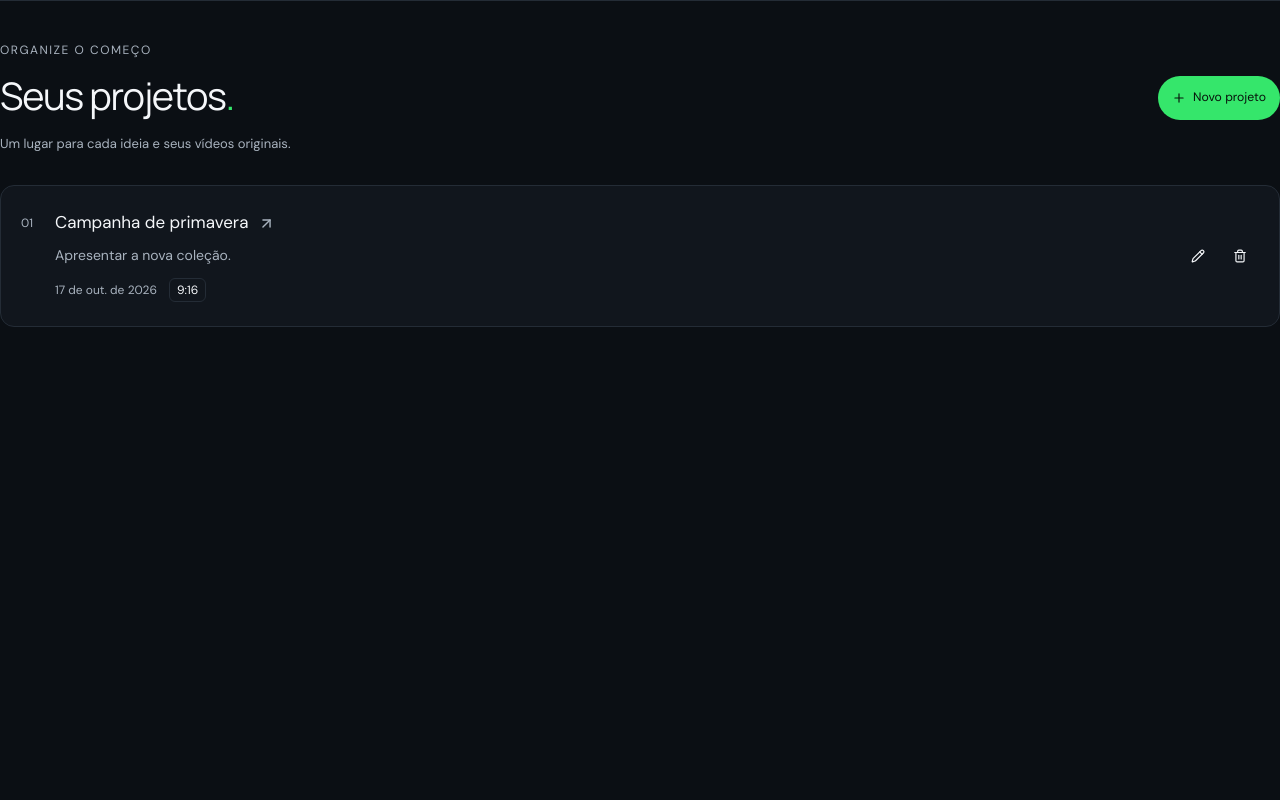
Test: Project management › updates name, purpose and optional preset and refreshes the list
Click the button named "Editar Campanha de primavera": (1198, 256) x1=1179 y1=234 x2=1218 y2=278
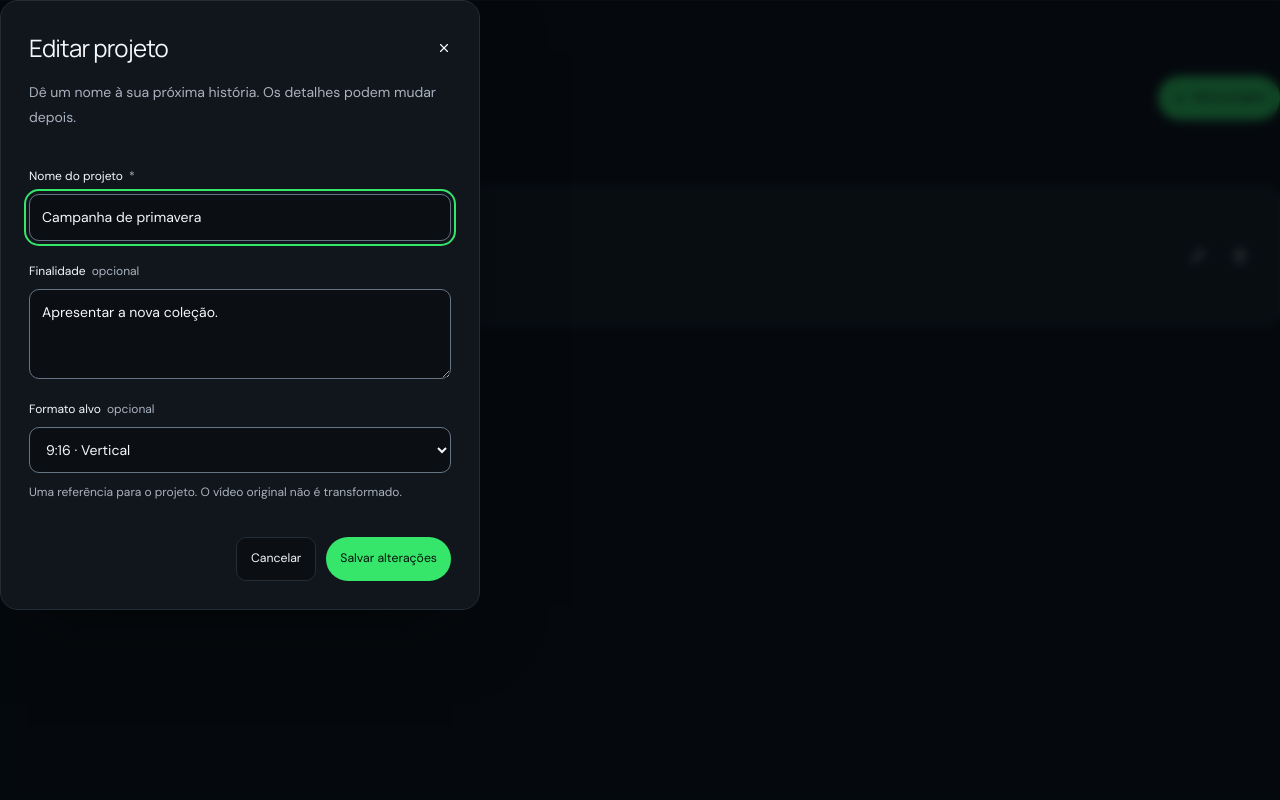
Replace the text in the field labelled "Nome do projeto *" with "Novo nome": (240, 218) x1=29 y1=194 x2=451 y2=241
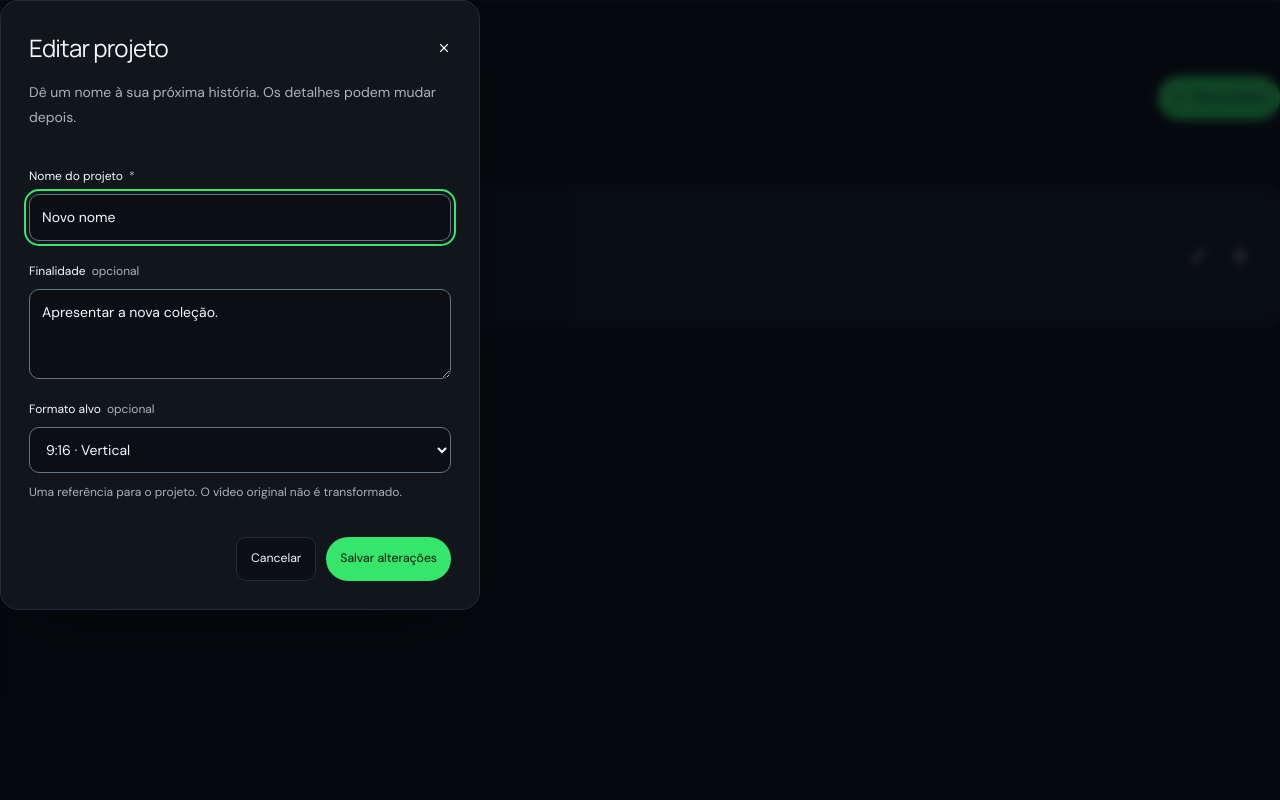
Replace the text in the text box labelled "Finalidade opcional" with "Novo propósito": (240, 334) x1=29 y1=289 x2=451 y2=379
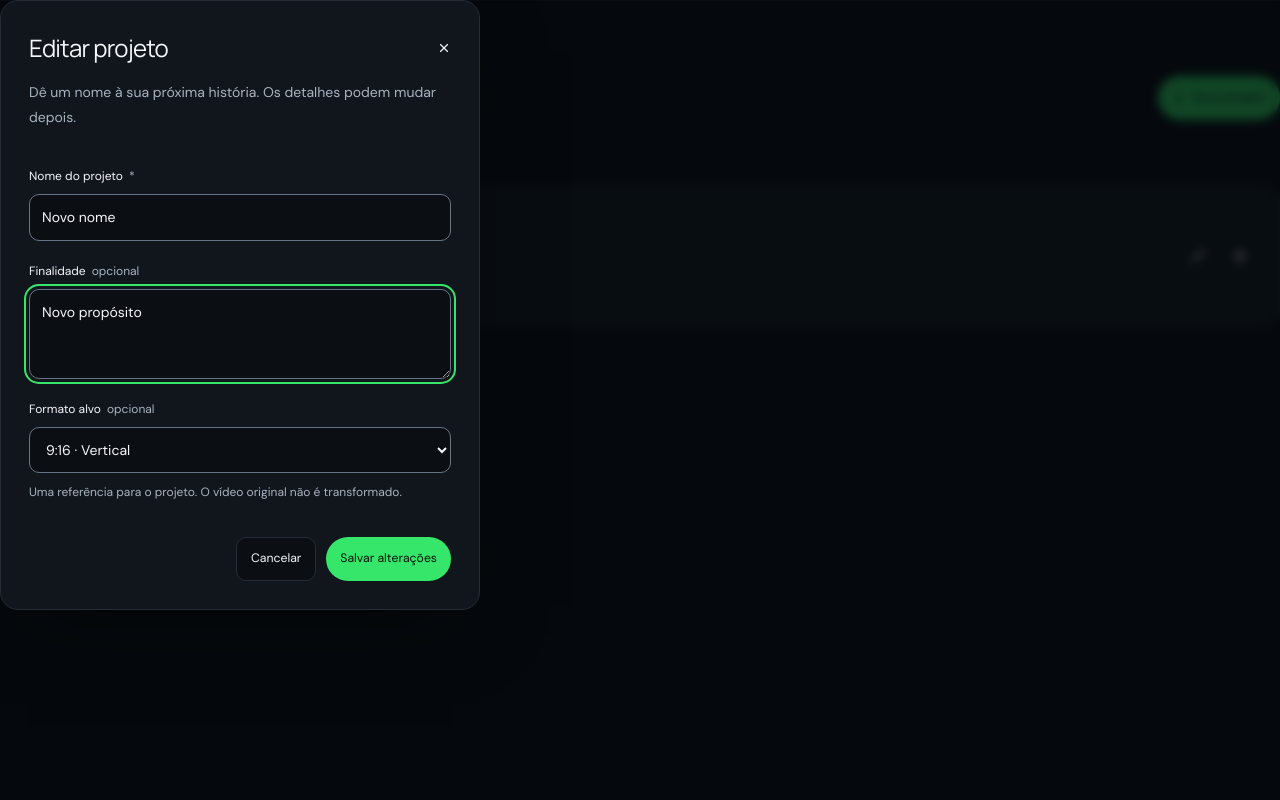
Select "Ainda não definido" in the dropdown labelled "Formato alvo opcional": (240, 450) x1=29 y1=427 x2=451 y2=473
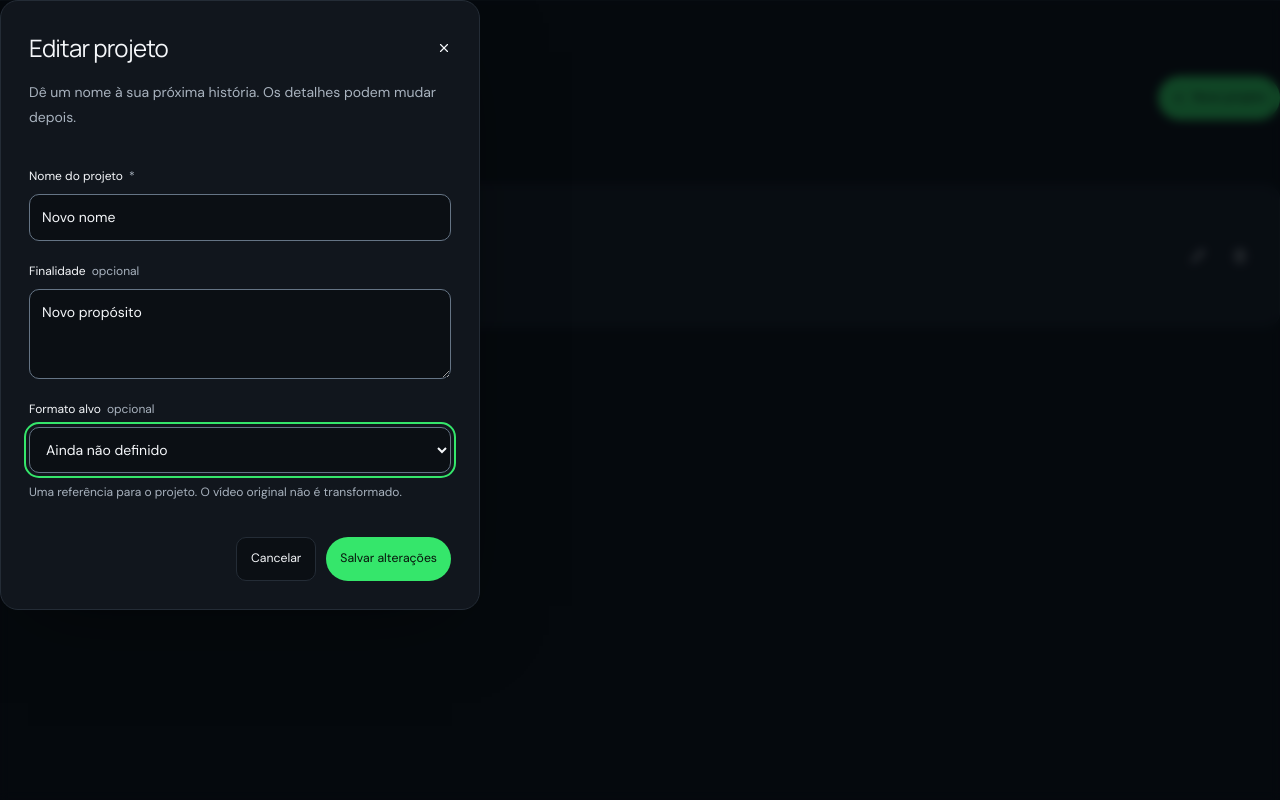
Click the button "Salvar alterações": (389, 559) x1=326 y1=537 x2=451 y2=581
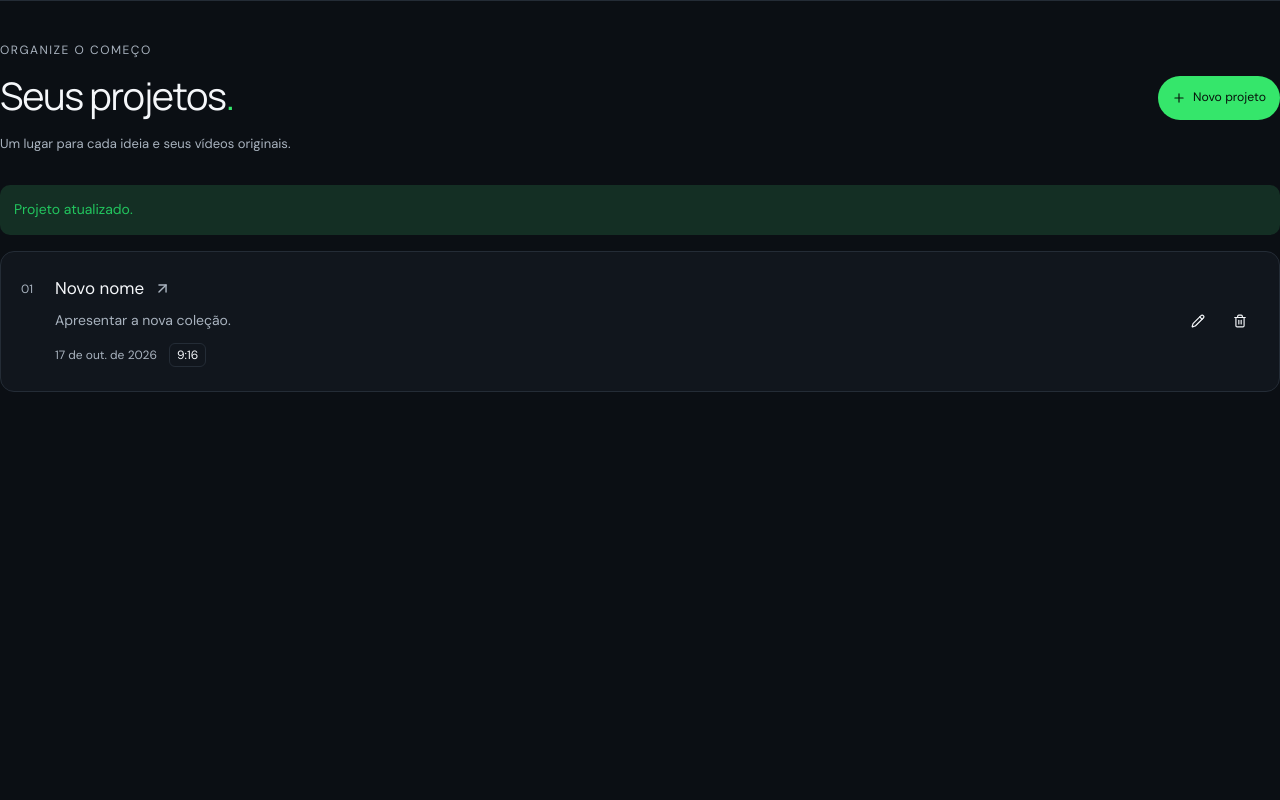
Now the link with aria-label "Abrir projeto Novo nome" is shown, box x1=55 y1=277 x2=231 y2=367
Now the text "Projeto atualizado." is shown, box x1=0 y1=186 x2=1279 y2=235
